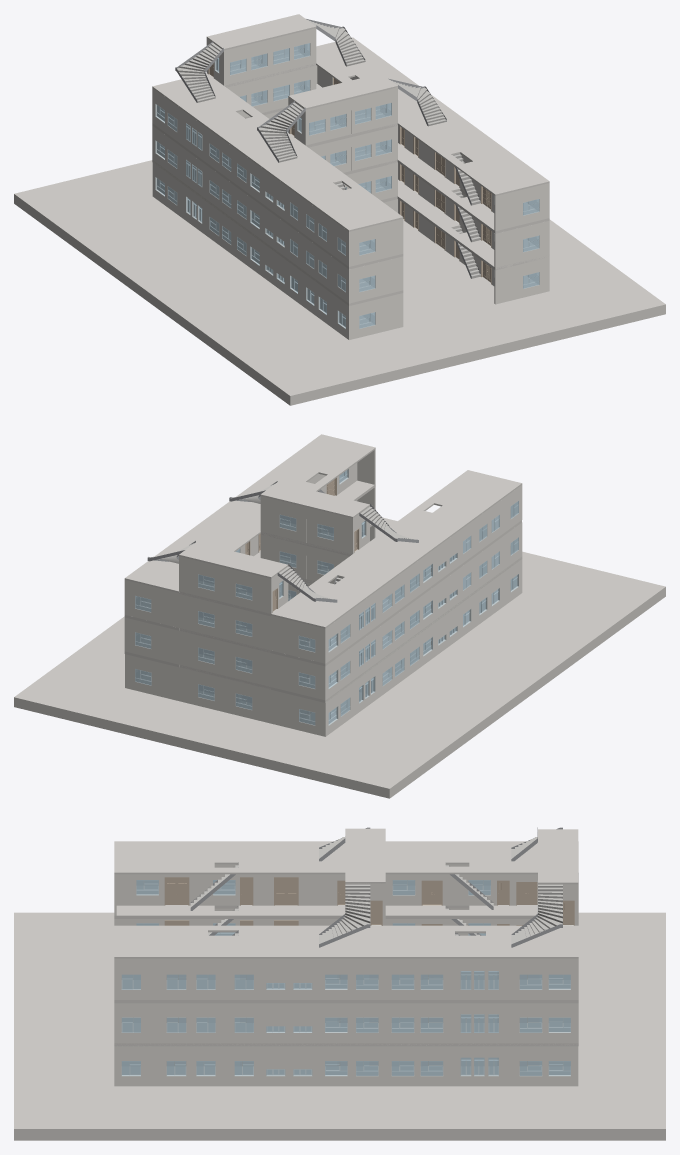
3 renders of one model, top to bottom at view 1: azimuth 30°, elevation 25°; view 2: azimuth 150°, elevation 25°; view 3: azimuth 270°, elevation 25°, orthographic. The views are drawn at different scales.
Visible parts, largest first — view 1: slab, wall, glazing, stair, door, mullion; view 2: slab, wall, glazing, stair, mullion, door; view 3: slab, wall, glazing, door, stair, mullion.
Part boxes in pixels (box(x1,y1,x2,y2)): slab: box(14, 14, 665, 405); wall: box(152, 28, 549, 339); glazing: box(155, 43, 539, 328); stair: box(177, 20, 480, 278); door: box(208, 48, 491, 284); mullion: box(175, 19, 480, 278); slab: box(14, 434, 665, 798); wall: box(124, 449, 522, 736); glazing: box(135, 469, 518, 725); stair: box(149, 484, 414, 599); mullion: box(147, 481, 418, 602); door: box(237, 477, 359, 714); slab: box(14, 828, 665, 1140); wall: box(114, 864, 578, 1086); glazing: box(121, 880, 570, 1076); door: box(164, 877, 574, 1065); stair: box(190, 837, 562, 944); mullion: box(190, 827, 562, 947).
Bounding box in the file's own units: 40.8 × 16.39 × 51.98.
